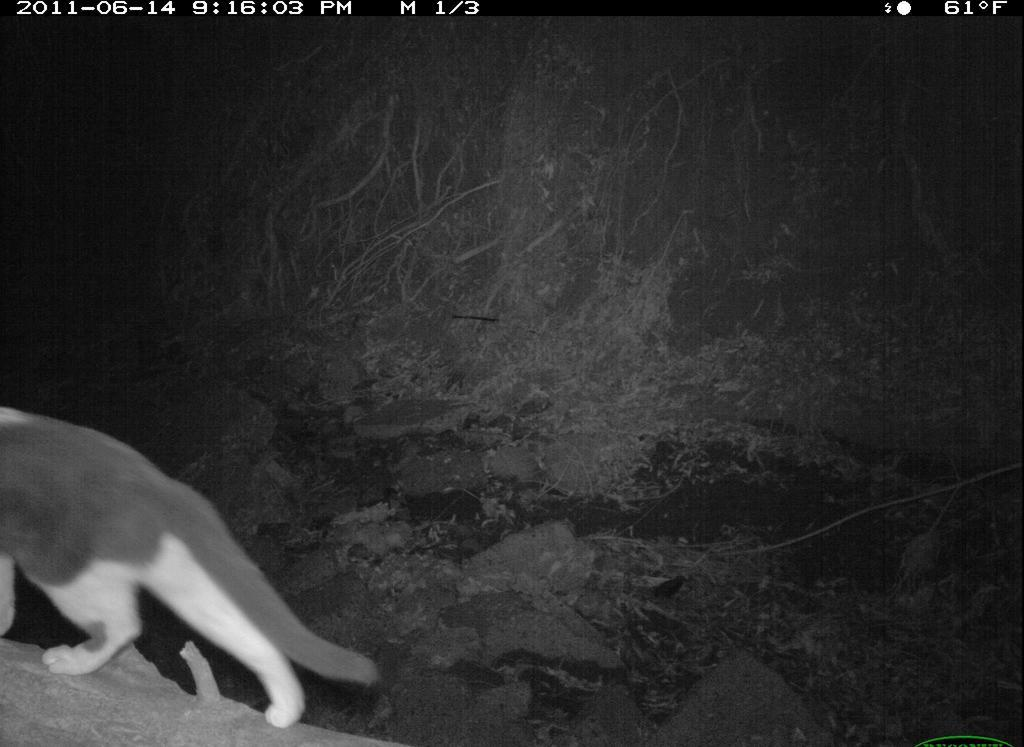cat: (4, 396, 402, 734)
